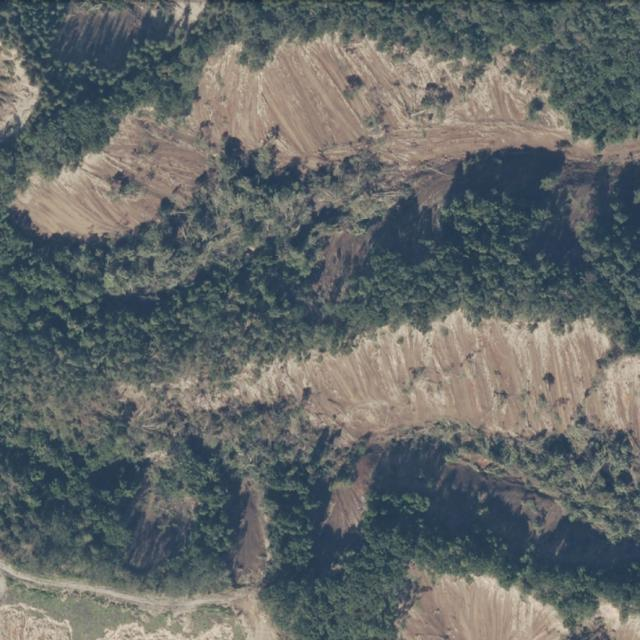landslide: (13, 35, 595, 237), (214, 311, 640, 456), (313, 154, 471, 301), (399, 576, 569, 640), (54, 1, 204, 70), (323, 451, 381, 535), (494, 141, 572, 194), (233, 484, 270, 587), (498, 486, 564, 538), (0, 42, 38, 129)
